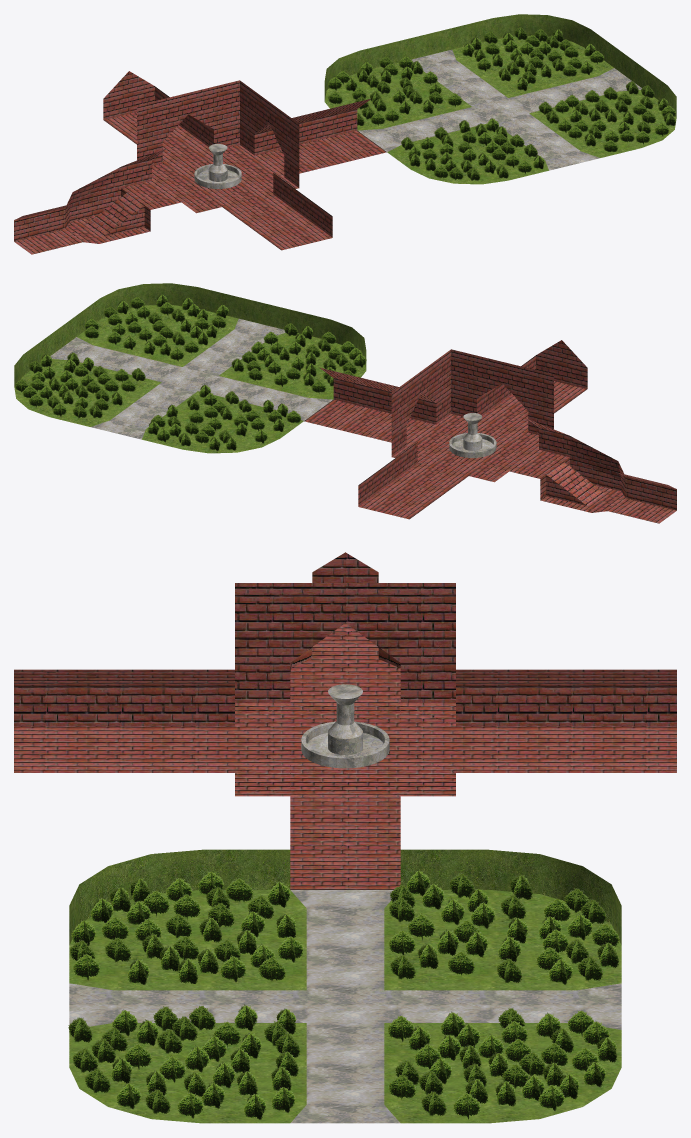
File: map.gltf
3 renders of one model, top to bottom at view 1: azimuth 30°, elevation 25°; view 2: azimuth 150°, elevation 25°; view 3: azimuth 270°, elevation 25°, orthographic. The views are drawn at different scales.
Visible parts, largest first — view 1: Brick area, Grass area, Bushes, Fountain; view 2: Brick area, Grass area, Bushes, Fountain; view 3: Brick area, Grass area, Bushes, Fountain.
Boxes of the visible parts, <box> form: Brick area: <box>14,71,386,254</box>; Grass area: <box>324,14,676,184</box>; Bushes: <box>327,27,675,180</box>; Fountain: <box>194,144,241,188</box>; Brick area: <box>304,340,676,523</box>; Grass area: <box>14,283,366,453</box>; Bushes: <box>15,294,366,450</box>; Fountain: <box>449,413,496,457</box>; Brick area: <box>14,552,676,889</box>; Grass area: <box>69,849,621,1123</box>; Bushes: <box>68,869,619,1119</box>; Fountain: <box>301,684,389,768</box>.
Size of the model in its own units: 59.04 by 8 by 30.
